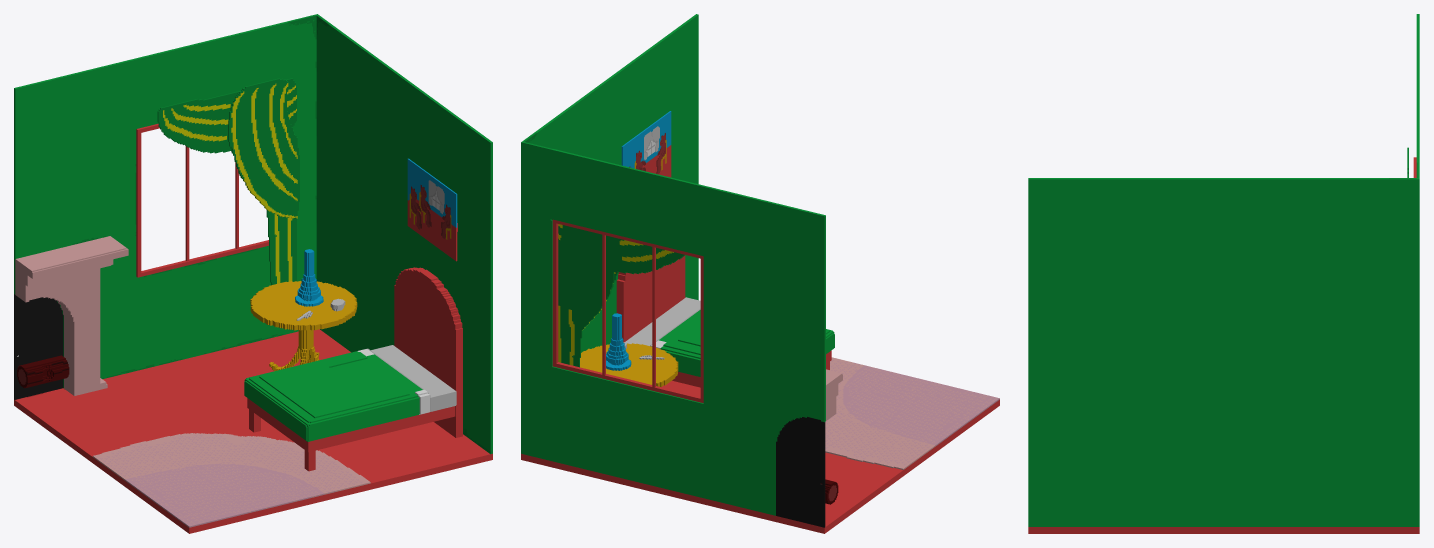
Rendered from goodnight-moon-0-scene.obj.
3 renders of one model, left to right at view 1: azimuth 30°, elevation 25°; view 2: azimuth 150°, elevation 25°; view 3: azimuth 270°, elevation 25°, orthographic. The views are drawn at different scales.
Parts seen in each view (by area): view 1: scene; view 2: scene; view 3: scene.
Boxes of the visible parts, x1=… form: scene: x1=14, y1=14, x2=492, y2=533; scene: x1=521, y1=14, x2=999, y2=533; scene: x1=1028, y1=14, x2=1419, y2=533.
Size of the model in its own units: 25.6 by 25.6 by 25.6.
Materials: 1 (1 with a texture image).
